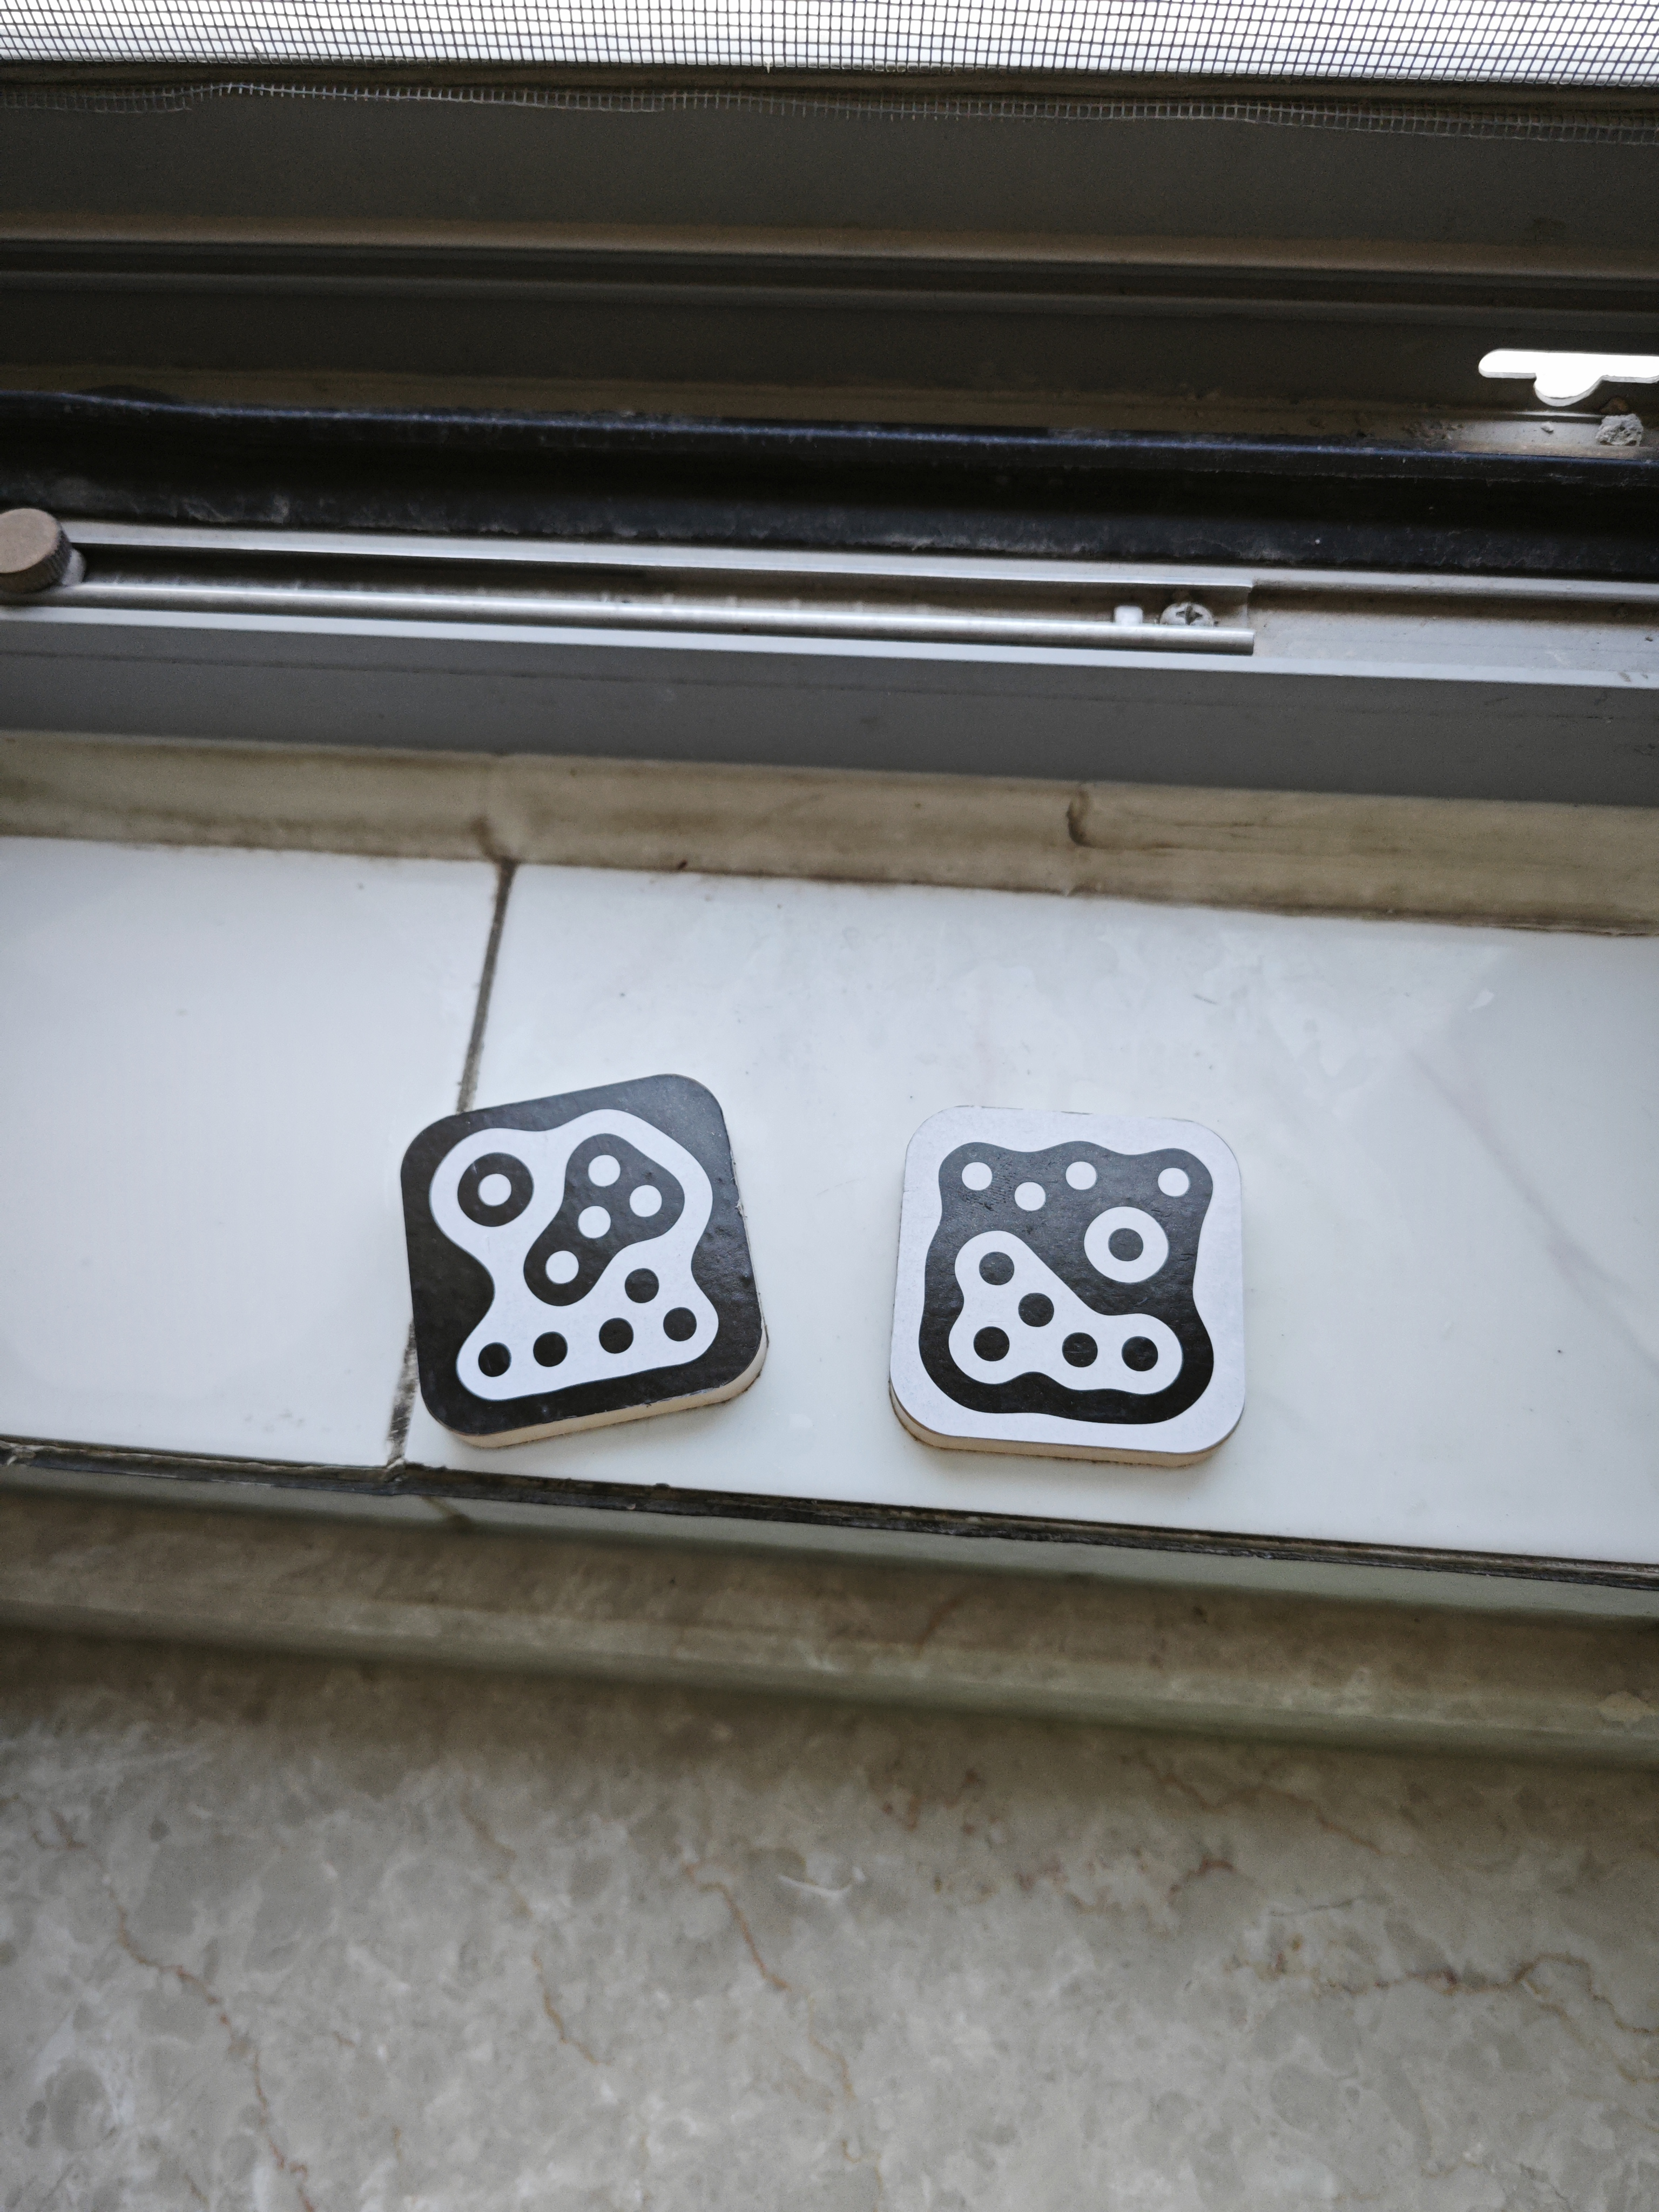mark1: (913, 1134, 1218, 1432)
mark2: (420, 1104, 718, 1421)
